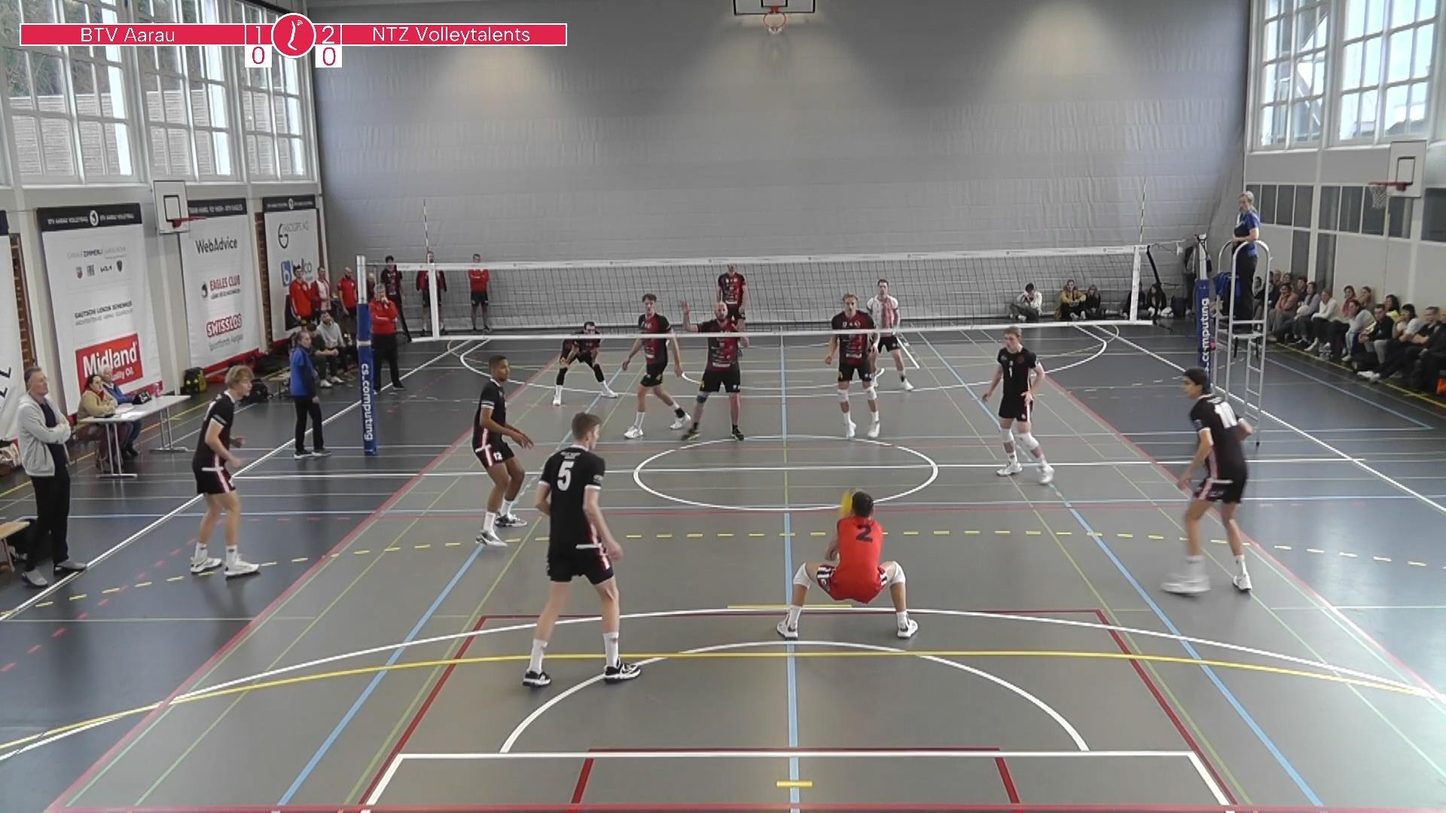ricezione: (772, 478, 926, 646)
